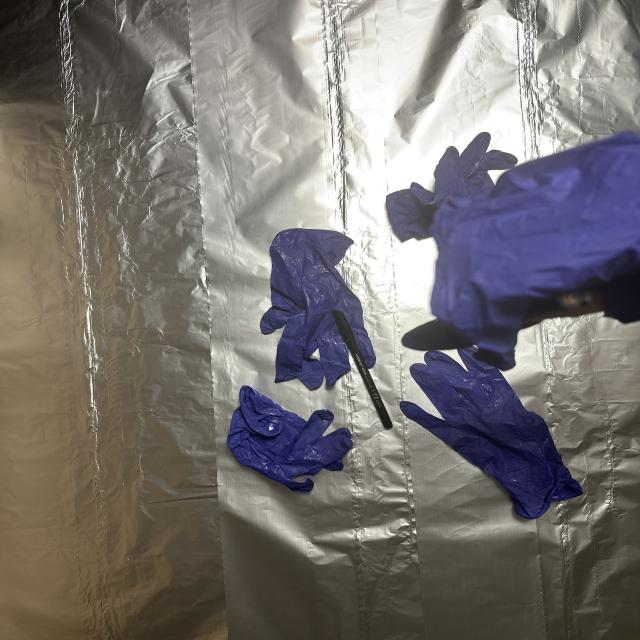glove_not_fitted: (420, 132, 640, 353)
